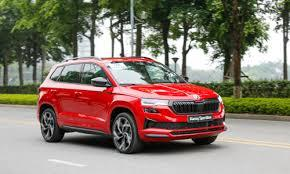skoda: (191, 93, 201, 101)
